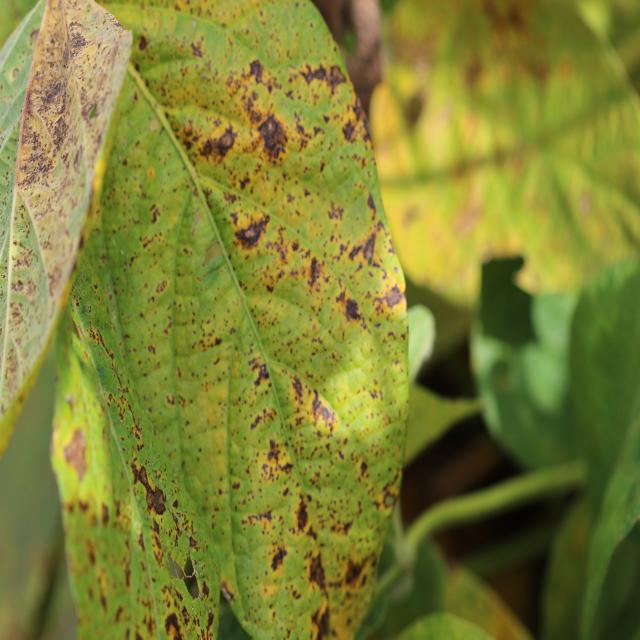Bacterial_Blight: (275, 368, 337, 448), (228, 58, 286, 120), (185, 298, 230, 355), (226, 206, 277, 255), (131, 457, 170, 521), (108, 388, 142, 441), (346, 221, 384, 266), (131, 226, 169, 271), (62, 425, 88, 480), (302, 61, 347, 91), (333, 287, 366, 327), (370, 282, 402, 319), (48, 105, 73, 152), (9, 242, 38, 282), (2, 339, 20, 402), (261, 437, 290, 473), (310, 597, 331, 639), (67, 23, 92, 58), (250, 404, 278, 433), (344, 555, 367, 587), (308, 550, 327, 588), (295, 493, 310, 532), (383, 476, 401, 507), (84, 322, 105, 348), (307, 255, 323, 288), (341, 117, 359, 144), (164, 611, 182, 638), (253, 361, 270, 387), (270, 545, 286, 570), (189, 36, 205, 58), (328, 201, 344, 222), (218, 130, 234, 151), (148, 203, 162, 224), (366, 191, 377, 217), (100, 501, 110, 526), (137, 34, 149, 51), (146, 166, 156, 180), (166, 394, 175, 406), (147, 343, 156, 355)
Soybean: (53, 1, 408, 640)
